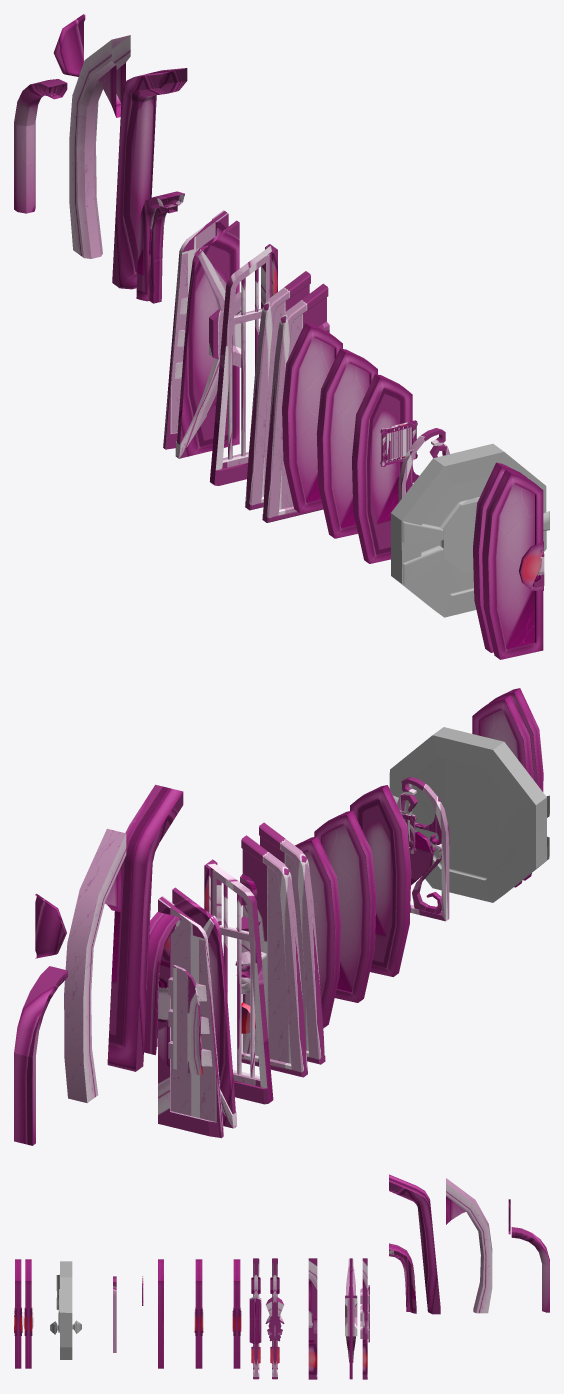
File: Doors_All.fbx
3 renders of one model, top to bottom at view 1: azimuth 30°, elevation 25°; view 2: azimuth 150°, elevation 25°; view 3: azimuth 270°, elevation 25°, orthographic. The views are drawn at different scales.
Parts seen in each view (by area): view 1: hobbitDoor_01, mdlPotion1Door1, mdlDoorDouble04, PUZ_Door_Surround, Winx_Double_Door, Winx_DoorSurround, mdlPuzzle1Door, mdlPuzzle2Door, mdlDoorDouble06, mdlBossDoor2, mdlBossDoor, mdlDoorDouble05 (+6 smaller); view 2: hobbitDoor_01, mdlBossDoor, PUZ_Door_Surround, mdlDoorDouble05, Winx_DoorSurround, mdlPuzzle1Door, Winx_Double_Door, mdlDoorDouble06, mdlBossDoor2, Courtyard_Door_Frame, mdlPuzzle2Door, mdlDoorDouble04 (+6 smaller); view 3: Winx_DoorSurround, PUZ_Door_Surround, hobbitDoor_01, mdlBossDoor, mdlBossDoor2, mdlDoorDouble06, mdlDoorDouble04, mdlPuzzle1Door, mdlPuzzle2Door, Courtyard_Door_Frame, mdlDoorDouble05, mdlHistroy1Door1 (+4 smaller).
Boxes of the visible parts, box(x1,y1,x2,y2) form: hobbitDoor_01: box(391, 443, 549, 617); mdlPotion1Door1: box(482, 469, 544, 659); mdlDoorDouble04: box(175, 220, 241, 458); PUZ_Door_Surround: box(112, 68, 187, 289); Winx_Double_Door: box(352, 374, 412, 563); Winx_DoorSurround: box(69, 35, 130, 258); mdlPuzzle1Door: box(316, 348, 377, 538); mdlPuzzle2Door: box(282, 323, 342, 513); mdlDoorDouble06: box(209, 244, 277, 485); mdlBossDoor2: box(262, 283, 329, 522); mdlBossDoor: box(245, 271, 310, 510); mdlDoorDouble05: box(163, 210, 228, 449); hobbitDoor_01: box(389, 727, 549, 902); mdlBossDoor: box(235, 835, 307, 1077); PUZ_Door_Surround: box(107, 784, 183, 1071); mdlDoorDouble05: box(158, 896, 223, 1138); Winx_DoorSurround: box(64, 828, 126, 1102); mdlPuzzle1Door: box(314, 810, 376, 1002); Winx_Double_Door: box(350, 785, 411, 976); mdlDoorDouble06: box(204, 859, 273, 1104); mdlBossDoor2: box(259, 822, 325, 1064); Courtyard_Door_Frame: box(14, 966, 67, 1145); mdlPuzzle2Door: box(295, 836, 341, 1028); mdlDoorDouble04: box(172, 887, 236, 1128); Winx_DoorSurround: box(446, 1178, 492, 1313); PUZ_Door_Surround: box(389, 1174, 440, 1314); hobbitDoor_01: box(50, 1261, 81, 1359); mdlBossDoor: box(265, 1258, 284, 1379); mdlBossDoor2: box(249, 1258, 261, 1379); mdlDoorDouble06: box(308, 1258, 317, 1379); mdlDoorDouble04: box(345, 1258, 357, 1379); mdlPuzzle1Door: box(194, 1259, 203, 1368); mdlPuzzle2Door: box(232, 1259, 241, 1368); Courtyard_Door_Frame: box(511, 1227, 549, 1312); mdlDoorDouble05: box(360, 1258, 369, 1379); mdlHistroy1Door1: box(23, 1259, 33, 1368).
Size of the model in its own units: 4.81 by 11.22 by 28.19.
